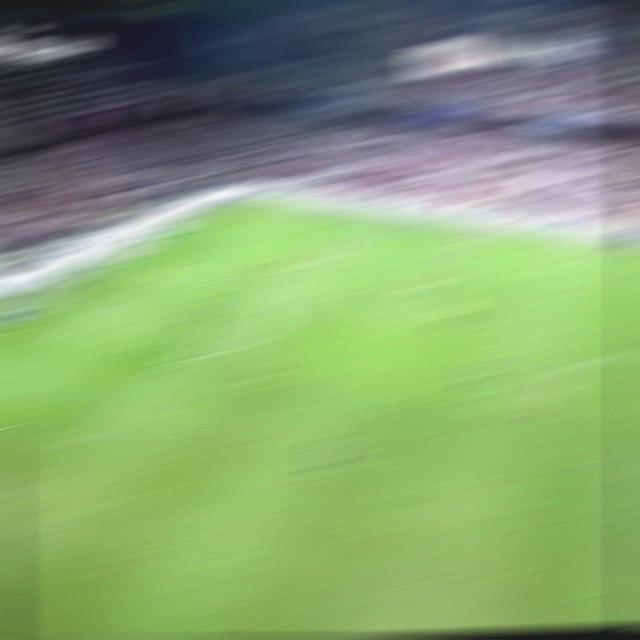bigarea_bottom_inner: (55, 434, 92, 453)
bigarea_top_inner: (301, 243, 336, 257)
bigarea_top_outter: (172, 223, 206, 236)
bottom_arc_area_intersection: (169, 349, 203, 364)
corner: (222, 196, 262, 205)
smallarea_bottom_inner: (31, 336, 67, 350)
smallarea_bottom_outter: (0, 324, 10, 337)
smallarea_top_inner: (156, 262, 189, 273)
smallarea_top_outter: (112, 252, 149, 267)
top_arc_area_intersection: (248, 285, 284, 301)
